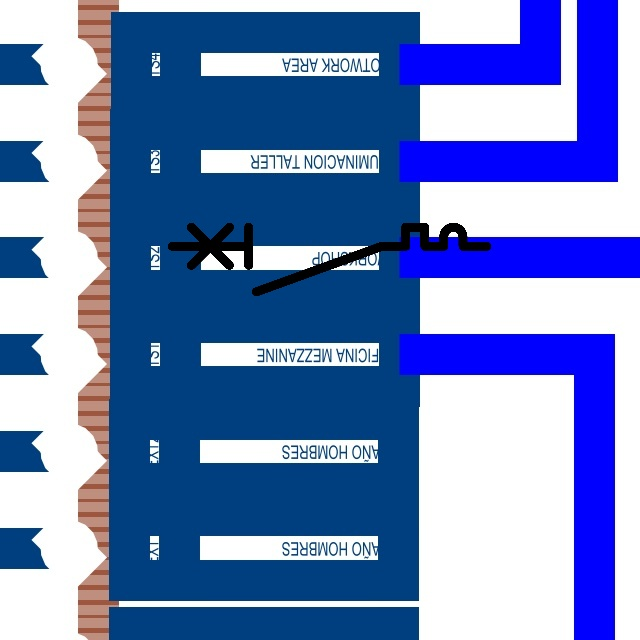interruptor_termomagnetico: (164, 219, 495, 300)
